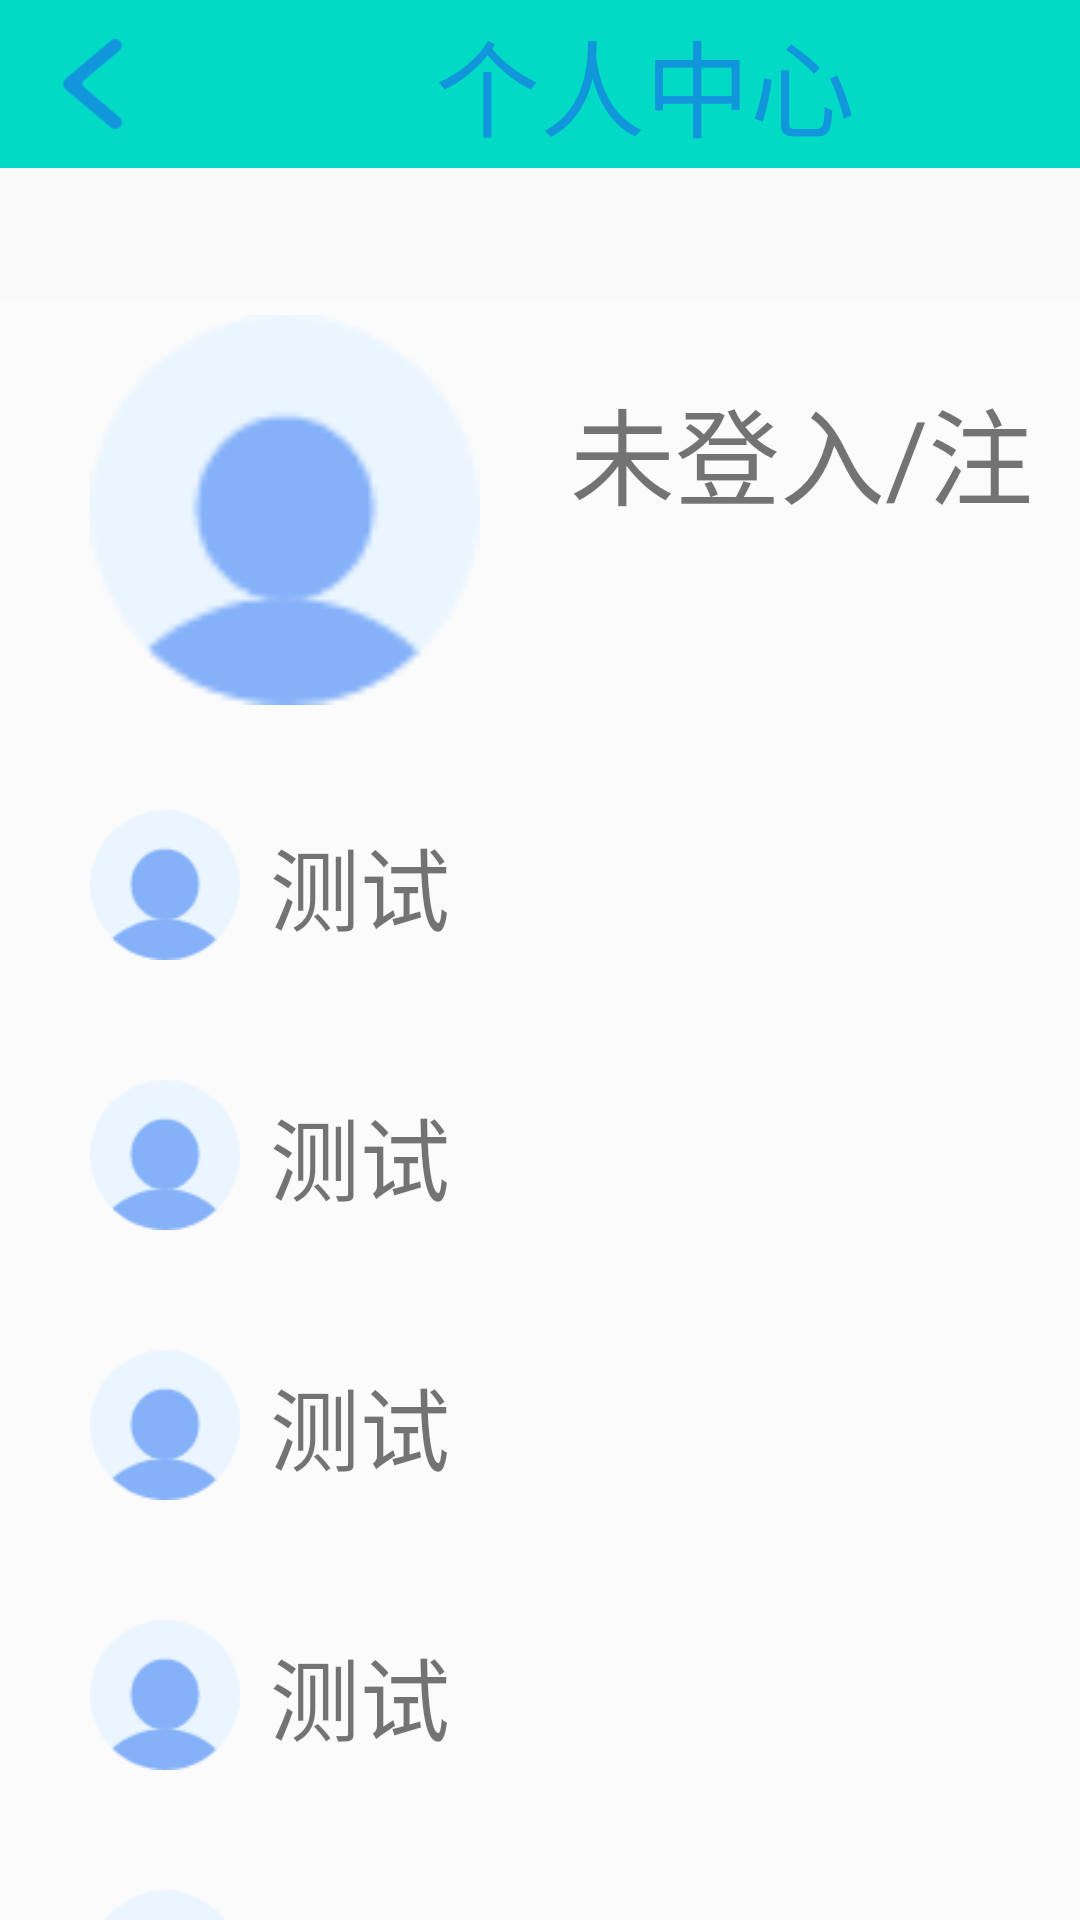

Where icons sit on this 1080×1920 app screen, as [left=x1, top=y1, right=x2, bottom=y2]:
back: [left=63, top=39, right=122, bottom=129]
